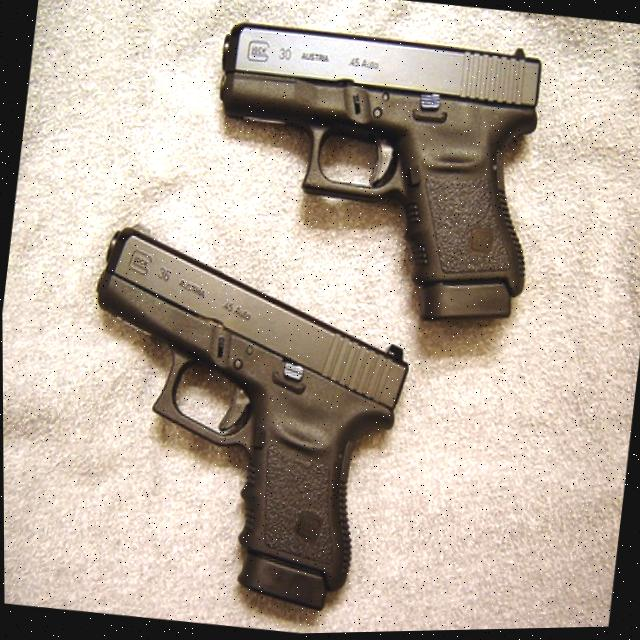pistol: (57, 216, 424, 619), (192, 13, 554, 335)
